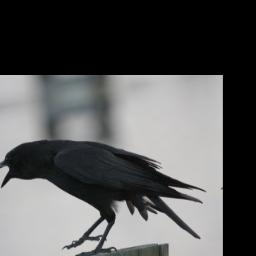Crow: (0, 114, 213, 256)
